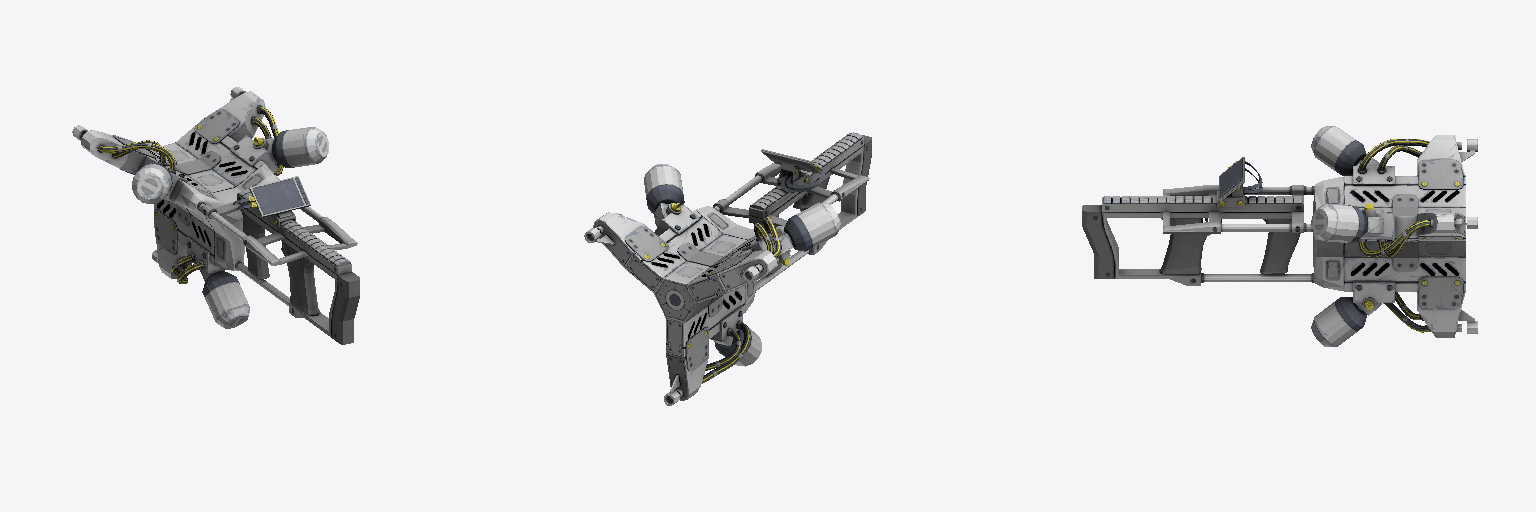
3 renders of one model, left to right at view 1: azimuth 30°, elevation 25°; view 2: azimuth 150°, elevation 25°; view 3: azimuth 270°, elevation 25°, orthographic.
Visible parts, largest first — view 1: Cube.063_Cube.073; view 2: Cube.063_Cube.073; view 3: Cube.063_Cube.073.
Part boxes in pixels (x1,y1,x2,y2): Cube.063_Cube.073: (72, 87, 359, 344); Cube.063_Cube.073: (584, 132, 871, 405); Cube.063_Cube.073: (1082, 126, 1477, 346).
Size of the model in its own units: 0.7343 by 0.6574 by 1.31.
Materials: 1 (1 with a texture image).